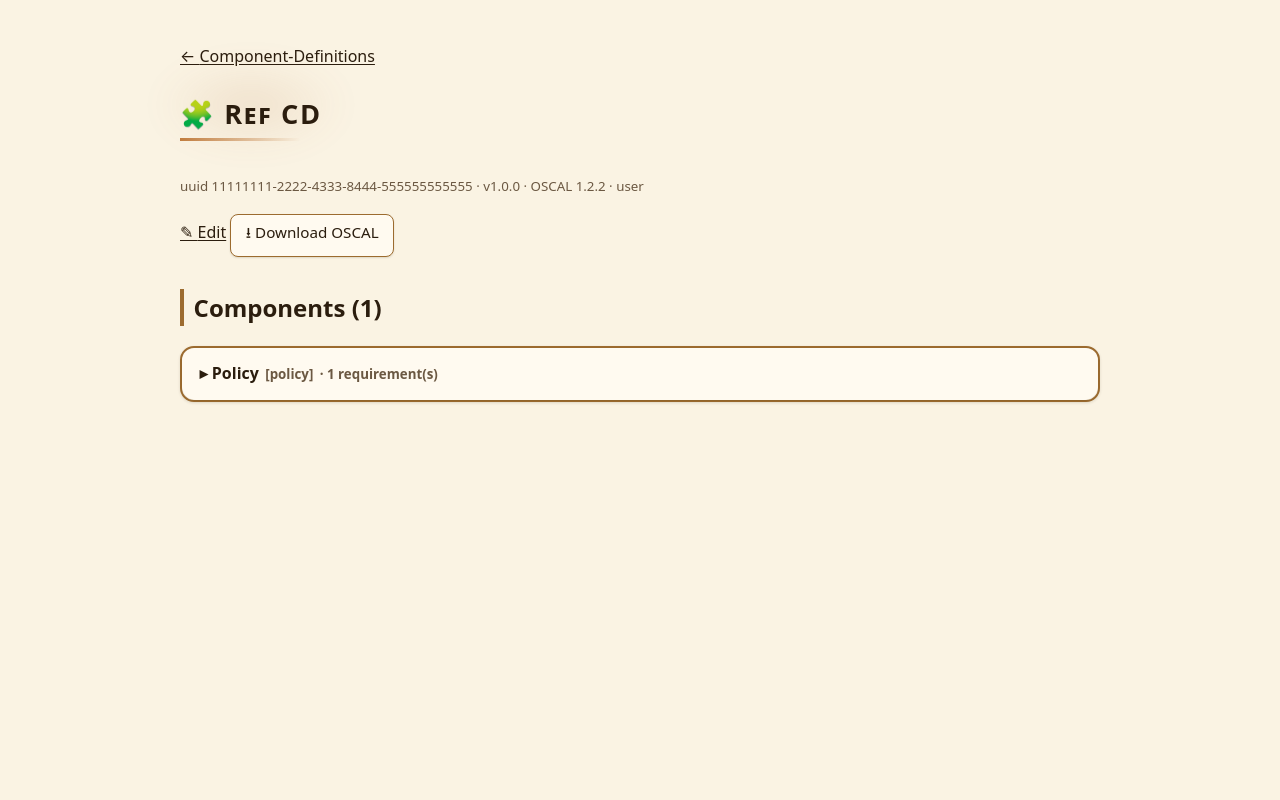
Test: components are collapsed by default (item 3) › shows a summary row and reveals requirements only after expanding
What coordinates should you click on to do the following:
click the button with test id "compdef-component-summary"
I would click on:
 (235, 373)
Its box is [182,348,1098,400].
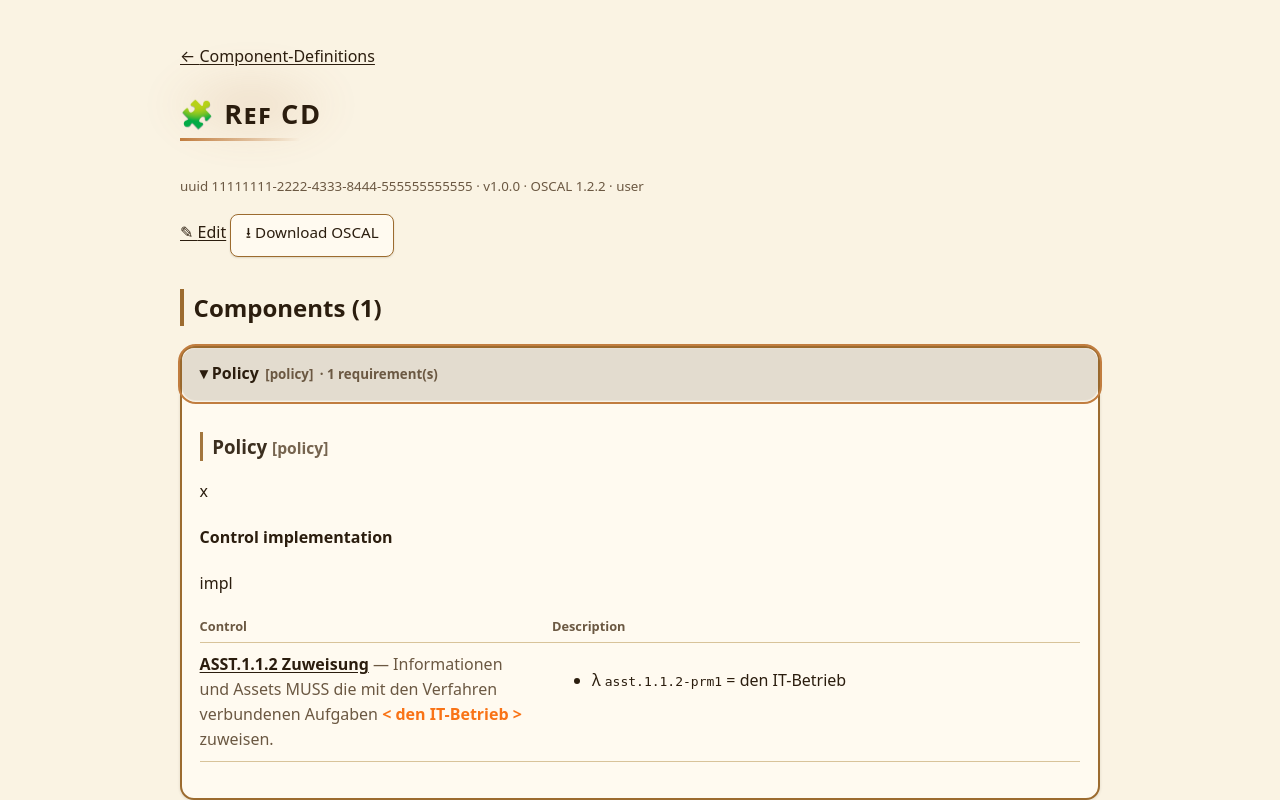
Check: the row with test id "compdef-requirement" is shown, box [200,642,1080,762]
